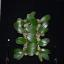leaf: (24, 43, 38, 51), (14, 23, 25, 33), (27, 14, 38, 24), (26, 34, 38, 43), (39, 50, 49, 60), (38, 21, 48, 31), (26, 12, 36, 22), (25, 26, 37, 34), (39, 15, 51, 23), (15, 20, 25, 28), (39, 48, 51, 54), (38, 38, 50, 44), (29, 18, 38, 26), (16, 38, 26, 44), (38, 40, 48, 46), (38, 28, 48, 34), (14, 53, 24, 58), (14, 49, 24, 54), (26, 50, 34, 56), (38, 51, 42, 62), (38, 30, 44, 36)
